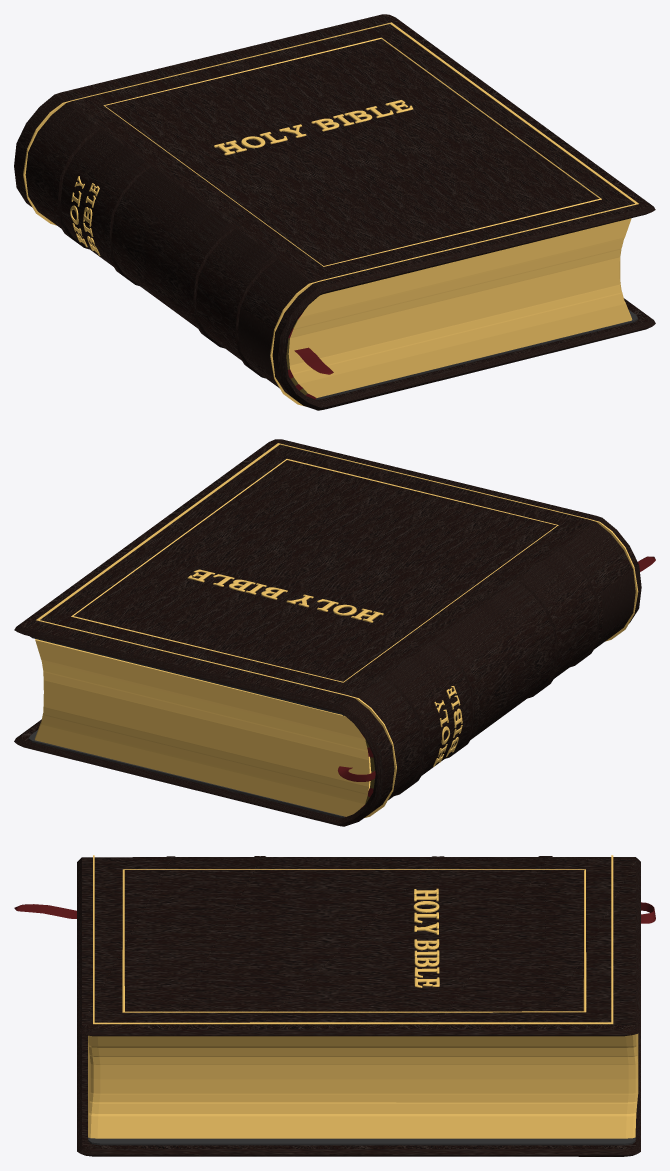
The model's file is bible.glb.
3 views of the same model, one above another, from view 1: azimuth 30°, elevation 25°; view 2: azimuth 150°, elevation 25°; view 3: azimuth 270°, elevation 25° (orthographic). The views are drawn at different scales.
Parts seen in each view (by area): view 1: hard cover, golden pages, Frame 2, Frame 1, TEXT 1, empastado 2.001, TEXT 2; view 2: hard cover, golden pages, Frame 2, empastado 2.001, Frame 1, TEXT 1, TEXT 2; view 3: hard cover, golden pages, empastado 2.001, Frame 2, Frame 1, TEXT 1, bookmark.001.
Part boxes in pixels (bbox=[...]): hard cover: bbox=[14, 14, 655, 410]; golden pages: bbox=[288, 218, 632, 397]; Frame 2: bbox=[23, 22, 638, 406]; Frame 1: bbox=[103, 37, 601, 266]; TEXT 1: bbox=[214, 100, 413, 155]; empastado 2.001: bbox=[315, 309, 637, 399]; TEXT 2: bbox=[70, 176, 100, 255]; hard cover: bbox=[14, 439, 641, 826]; golden pages: bbox=[35, 639, 371, 816]; Frame 2: bbox=[36, 443, 638, 817]; empastado 2.001: bbox=[28, 636, 344, 817]; Frame 1: bbox=[71, 459, 558, 682]; TEXT 1: bbox=[187, 569, 383, 622]; TEXT 2: bbox=[433, 686, 462, 766]; hard cover: bbox=[77, 856, 640, 1156]; golden pages: bbox=[88, 1033, 638, 1138]; empastado 2.001: bbox=[88, 1137, 635, 1145]; Frame 2: bbox=[93, 855, 613, 1024]; Frame 1: bbox=[122, 869, 586, 1012]; TEXT 1: bbox=[413, 888, 439, 987]; bookmark.001: bbox=[14, 902, 655, 923].
Size of the model in its own units: 690 by 218 by 955.
5 materials, 1 textured.
